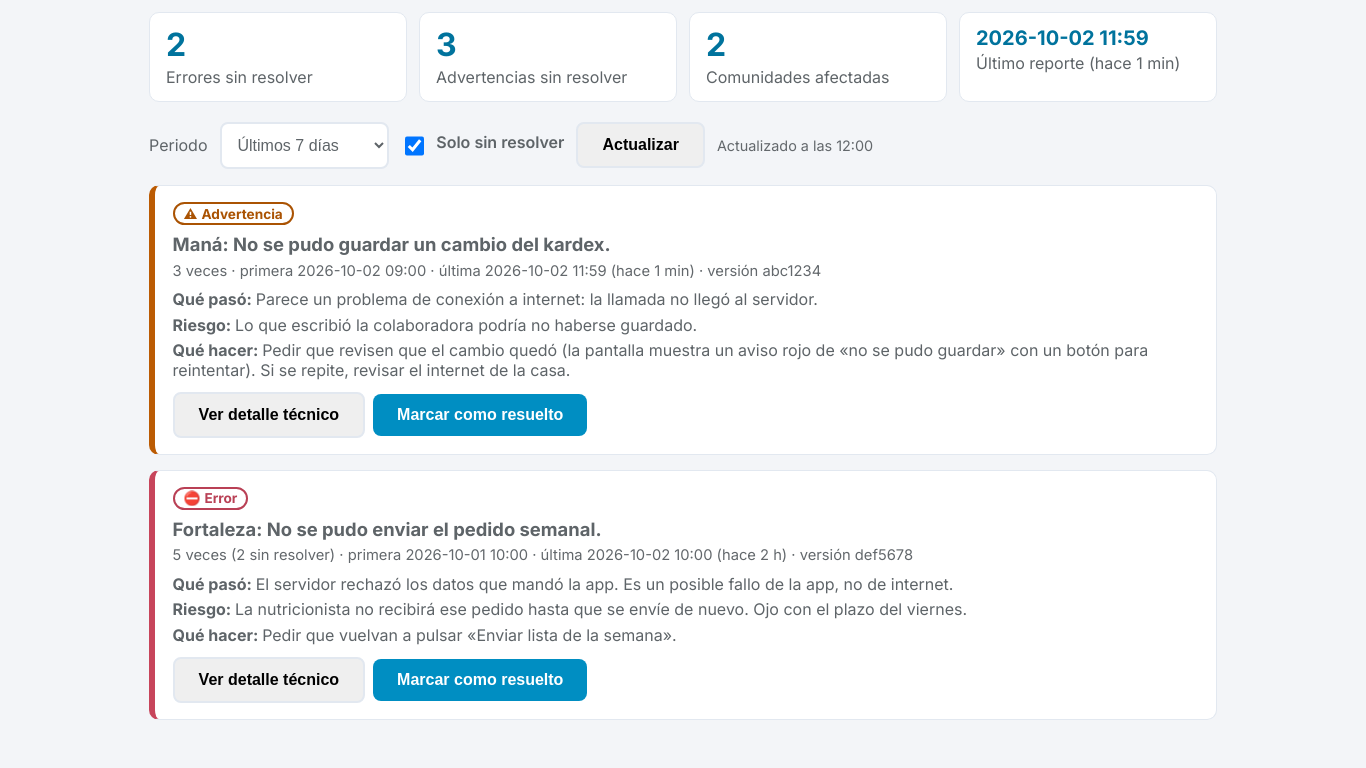
Test: marcar como resuelto › pide confirmación diciendo cuántos reportes cierra; cancelar no hace nada
The image size is (1366, 768).
(page scrolled)
Click the button "Marcar como resuelto" below "5 veces (2 sin resolver)" at (480, 680), box [373,659,587,701]
(page scrolled)
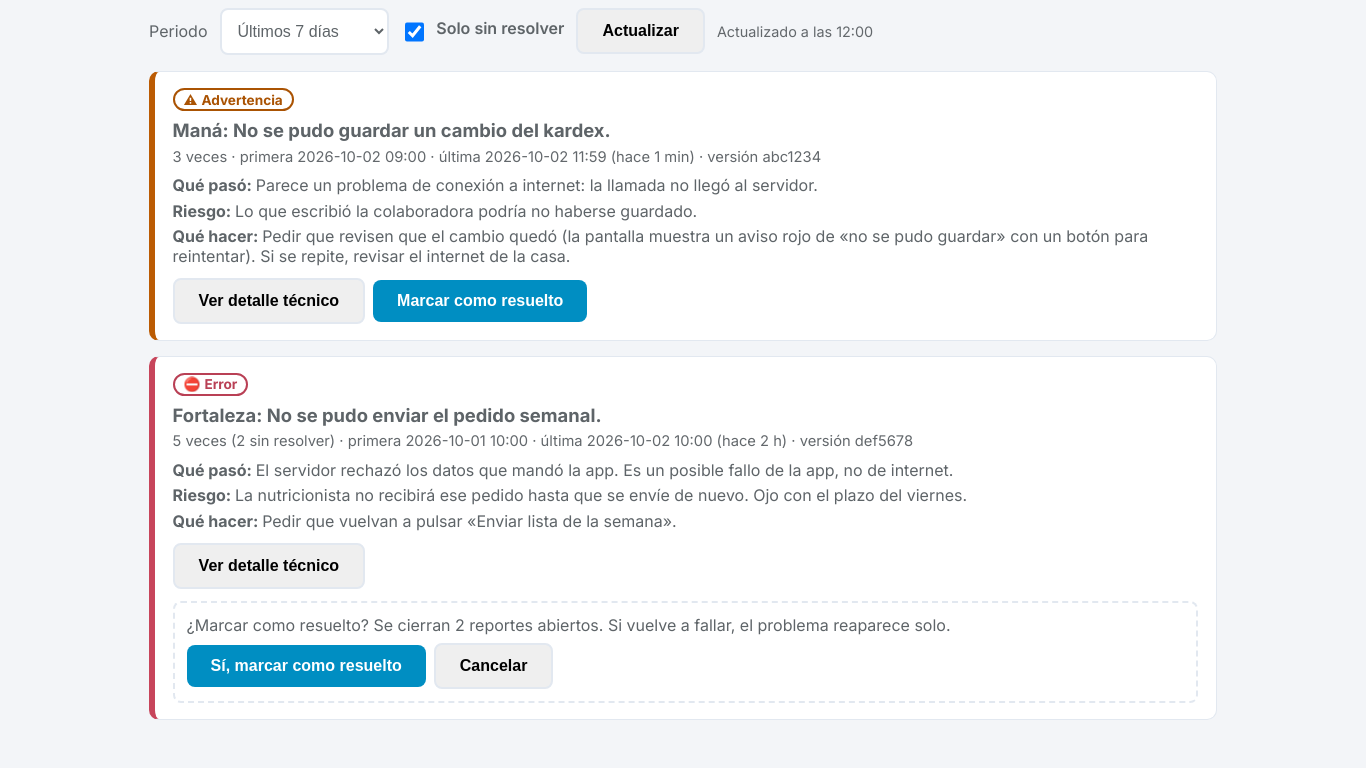
Expected: the list item "Fortaleza: No se pudo enviar el pedido semanal." shows "Se cierran 2 reportes abiertos", [149,356,1217,720]
Click the button "Cancelar" at (494, 666), box [434,643,553,689]
(page scrolled)
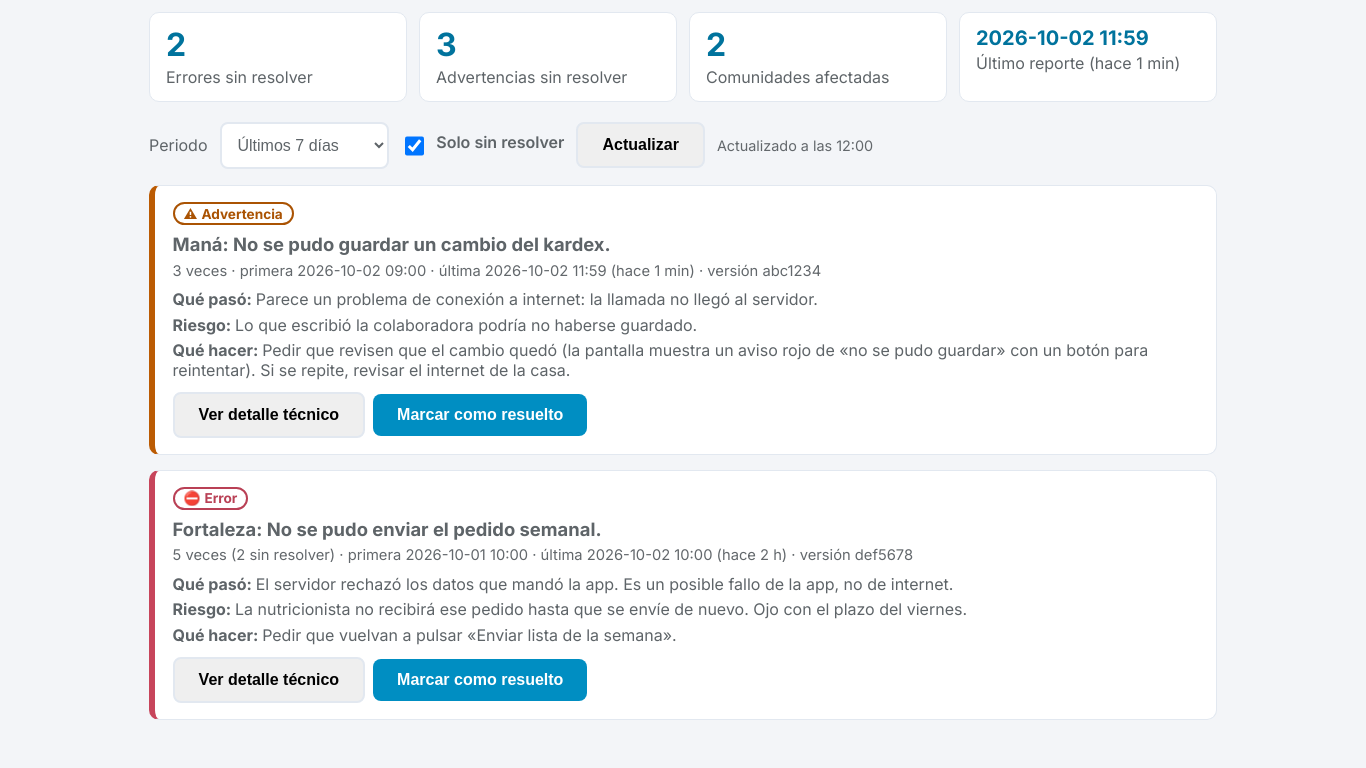
Expected: the text "Se cierran" is gone
